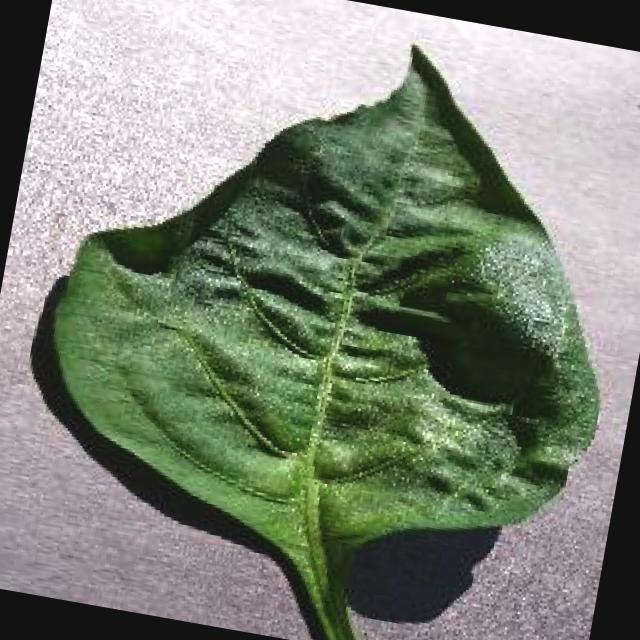Leaf: (77, 85, 590, 592)
